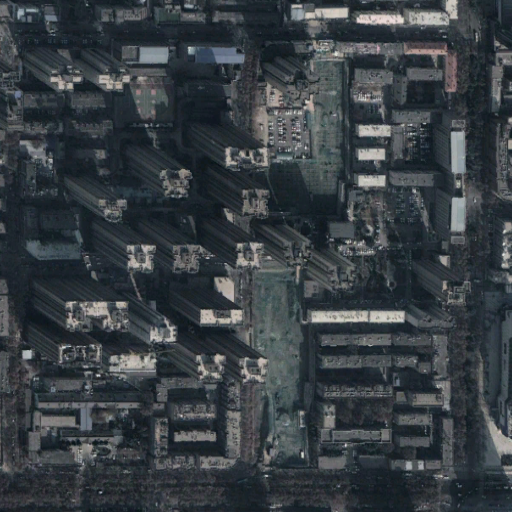cw: (252, 48, 347, 223), (255, 268, 309, 466)
